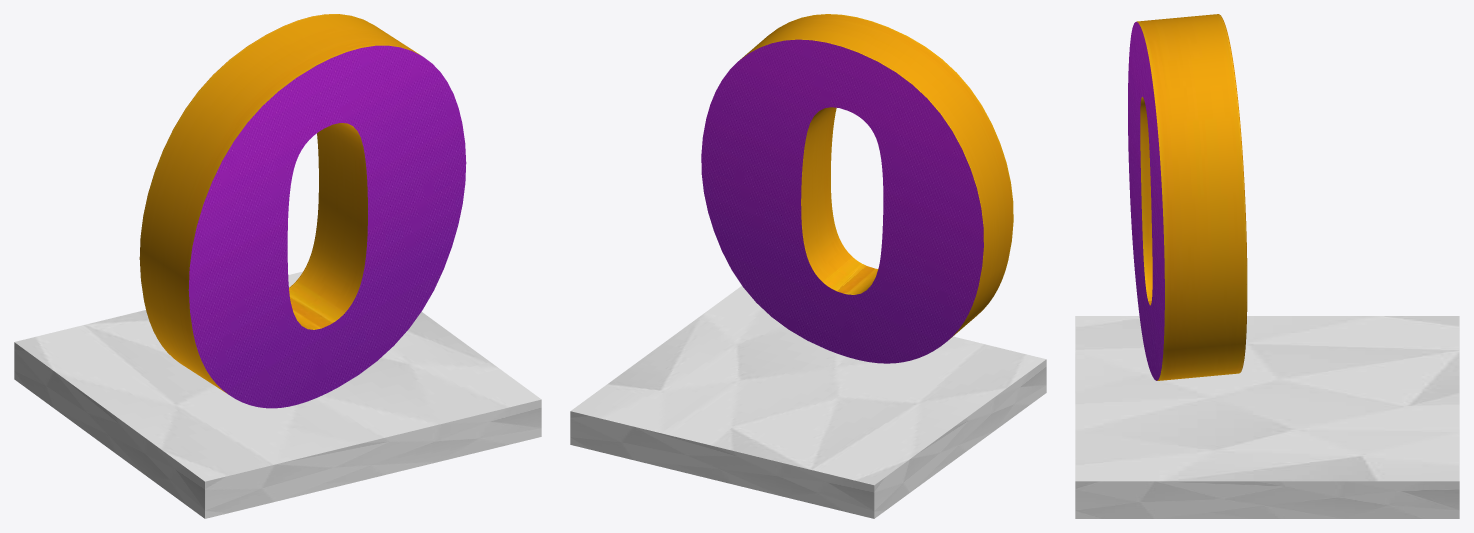
Rendered from CERO.DAE.
The picture shows the model from 3 angles, left to right: view 1: azimuth 30°, elevation 25°; view 2: azimuth 150°, elevation 25°; view 3: azimuth 270°, elevation 25°; orthographic projection. The views are drawn at different scales.
Parts seen in each view (by area): view 1: Text001, Box001; view 2: Text001, Box001; view 3: Box001, Text001.
Boxes of the visible parts, left/top/right/bottom form: Text001: left=139, top=14, right=466, bottom=408; Box001: left=14, top=271, right=541, bottom=518; Text001: left=701, top=14, right=1013, bottom=363; Box001: left=570, top=286, right=1046, bottom=518; Box001: left=1075, top=316, right=1459, bottom=518; Text001: left=1128, top=14, right=1247, bottom=380.
Size of the model in its own units: 139 by 137 by 159.
3 materials, 3 textured.
